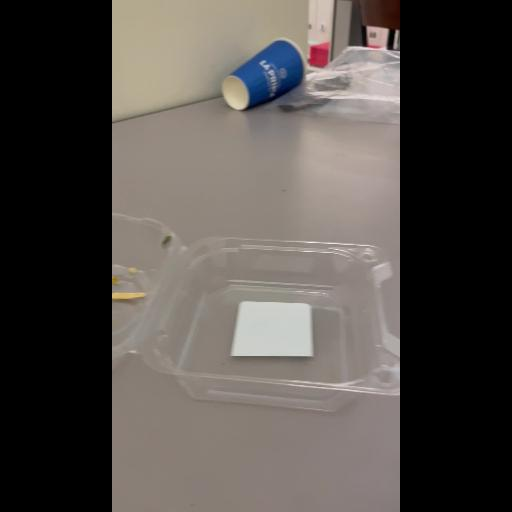small_plastic_container: (112, 206, 400, 420)
